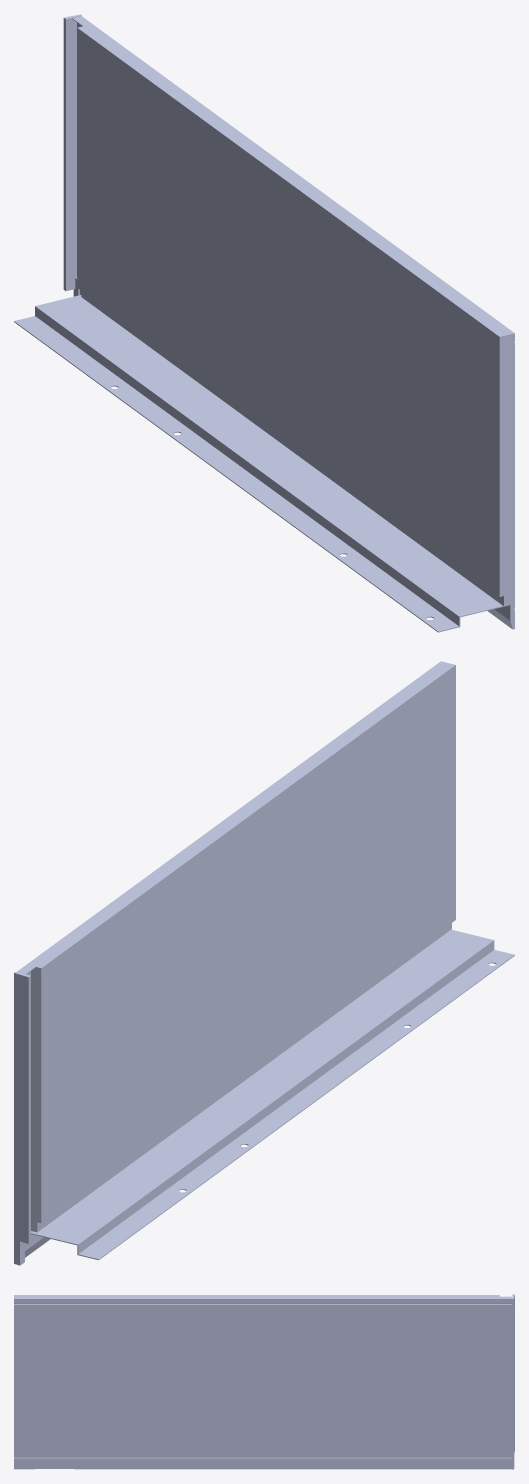
The model's file is lg-kava-F650-m.glb.
The picture shows the model from 3 angles, top to bottom: view 1: azimuth 30°, elevation 25°; view 2: azimuth 150°, elevation 25°; view 3: azimuth 270°, elevation 25°; orthographic projection. The views are drawn at different scales.
Visible parts, largest first — view 1: 48745255; view 2: 48745255; view 3: 48745255.
Boxes of the visible parts, left/top/right/bottom form: 48745255: left=14, top=14, right=514, bottom=632; 48745255: left=14, top=661, right=514, bottom=1265; 48745255: left=14, top=1294, right=514, bottom=1469.
Size of the model in its own units: 0.0653 by 0.2417 by 0.6435.
